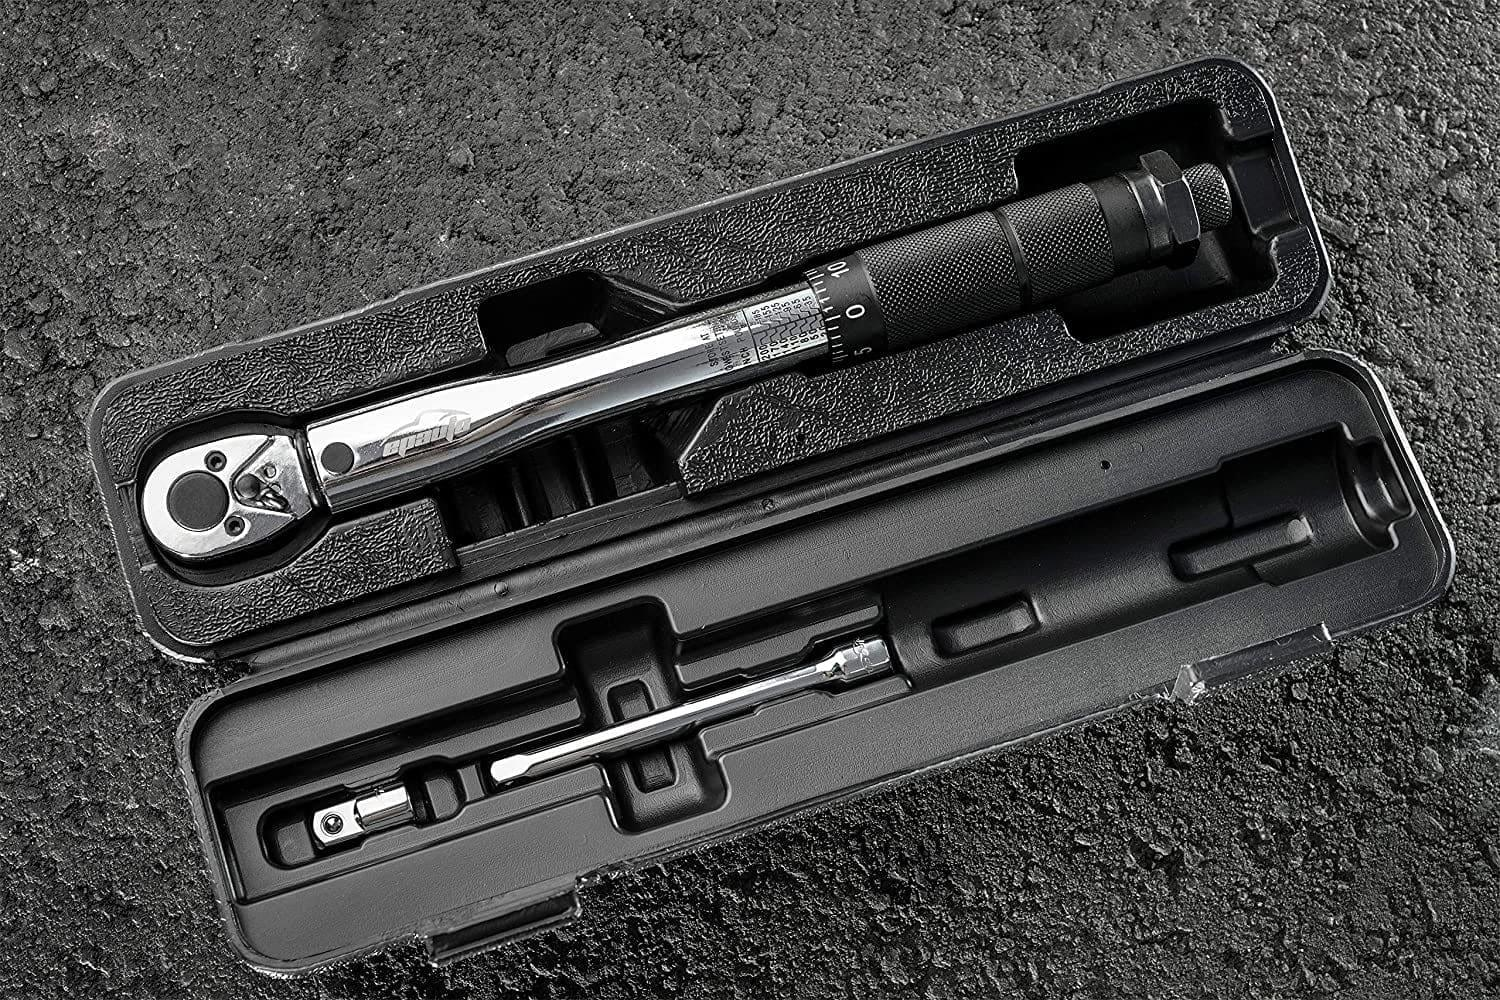Tool: (127, 421, 312, 566)
